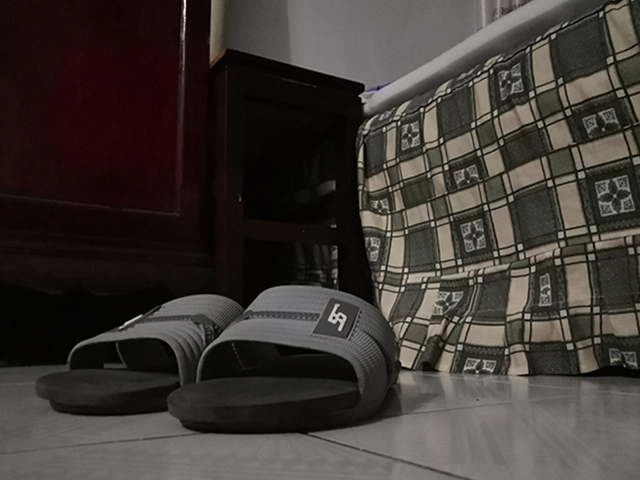bed: (277, 1, 640, 381)
cabinet: (2, 2, 216, 296)
slippers: (162, 288, 402, 440), (30, 292, 238, 412)
stool: (206, 46, 374, 310)
